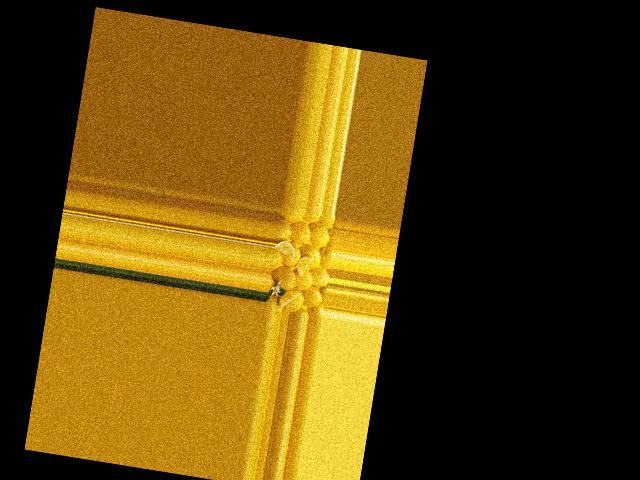lemon: (275, 218, 297, 243)
